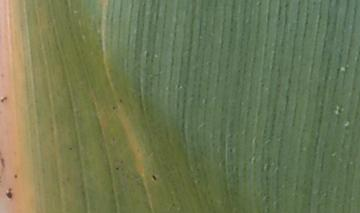tarspot: (5, 186, 13, 199), (144, 48, 151, 59), (1, 157, 7, 169), (1, 95, 9, 103), (150, 173, 157, 181), (12, 173, 20, 180), (113, 165, 120, 172), (117, 97, 123, 104), (66, 146, 73, 152), (228, 147, 234, 153), (111, 104, 116, 111)
